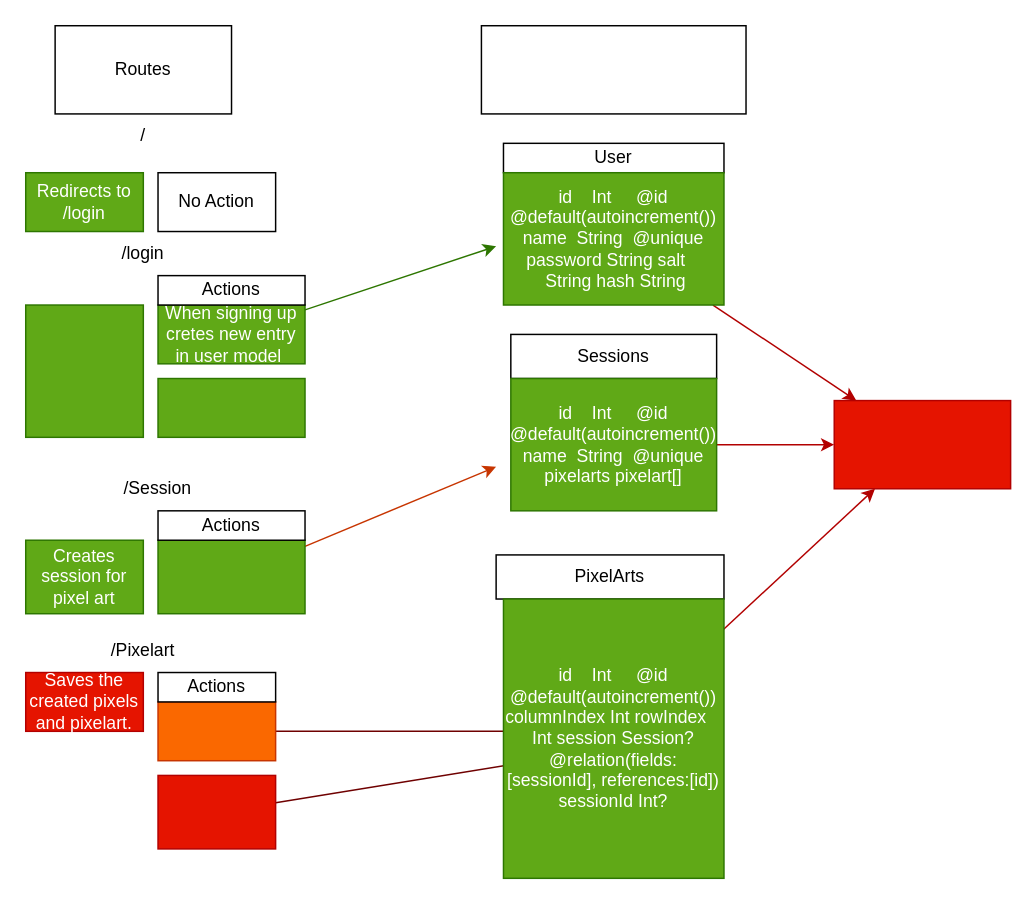
Image size: 1036x904. Some labels were removed from this diagram. The centre of each missing label's shape, as x and y in pixels:
Creates new entry in Pixelart Model: point 216,730
Creates new entry in session model: point 231,576
Creates user and stores user cookie.: point 83,370
Models: point 613,69
Server: point 922,444
Updates Pixel arts: point 216,811
When logout, clear cookie: point 231,407
